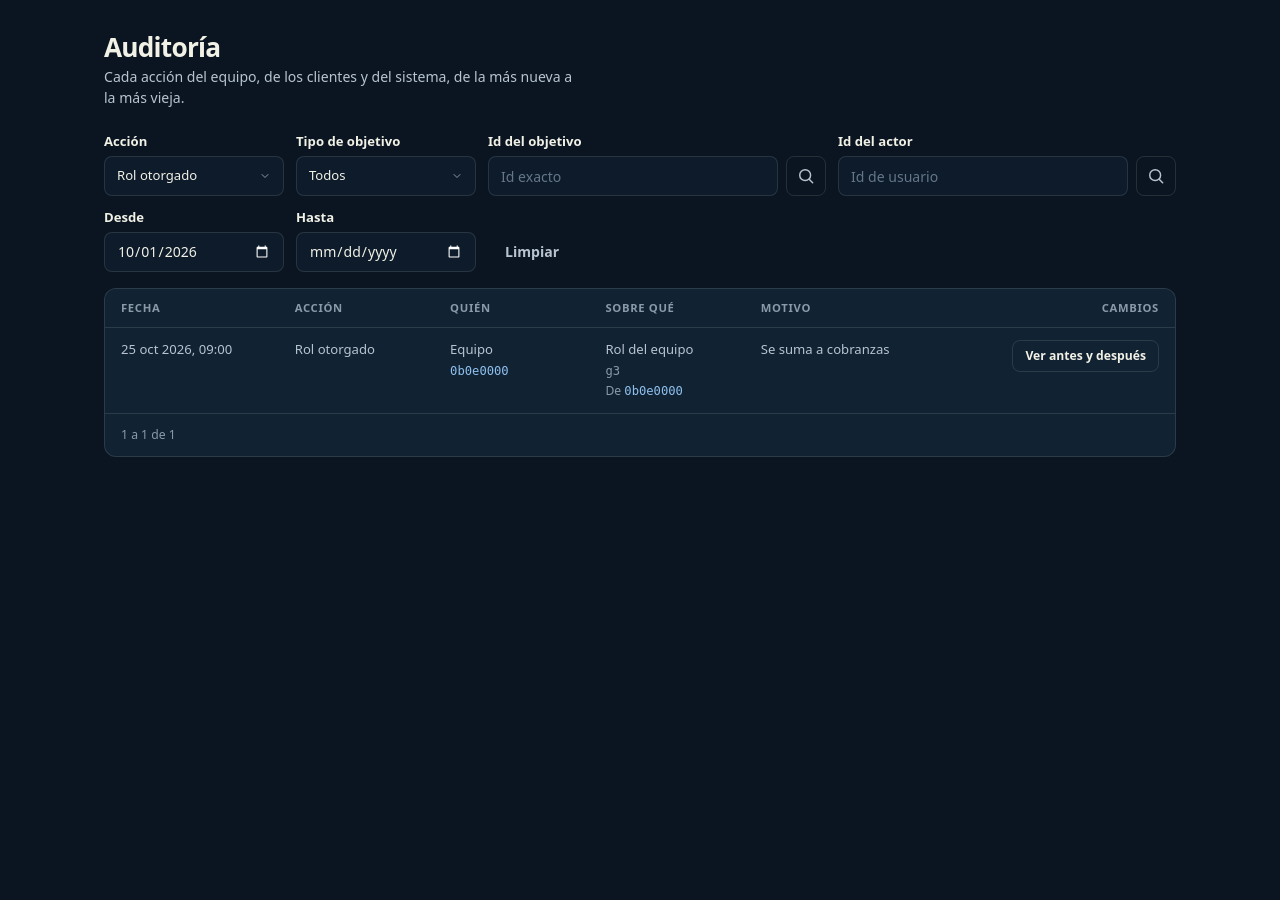
Test case: AuditScreen › sends the filters and shows before and after as text
Click the button "Ver antes y después" at coordinates (1086, 356), box [1012,340,1159,372]
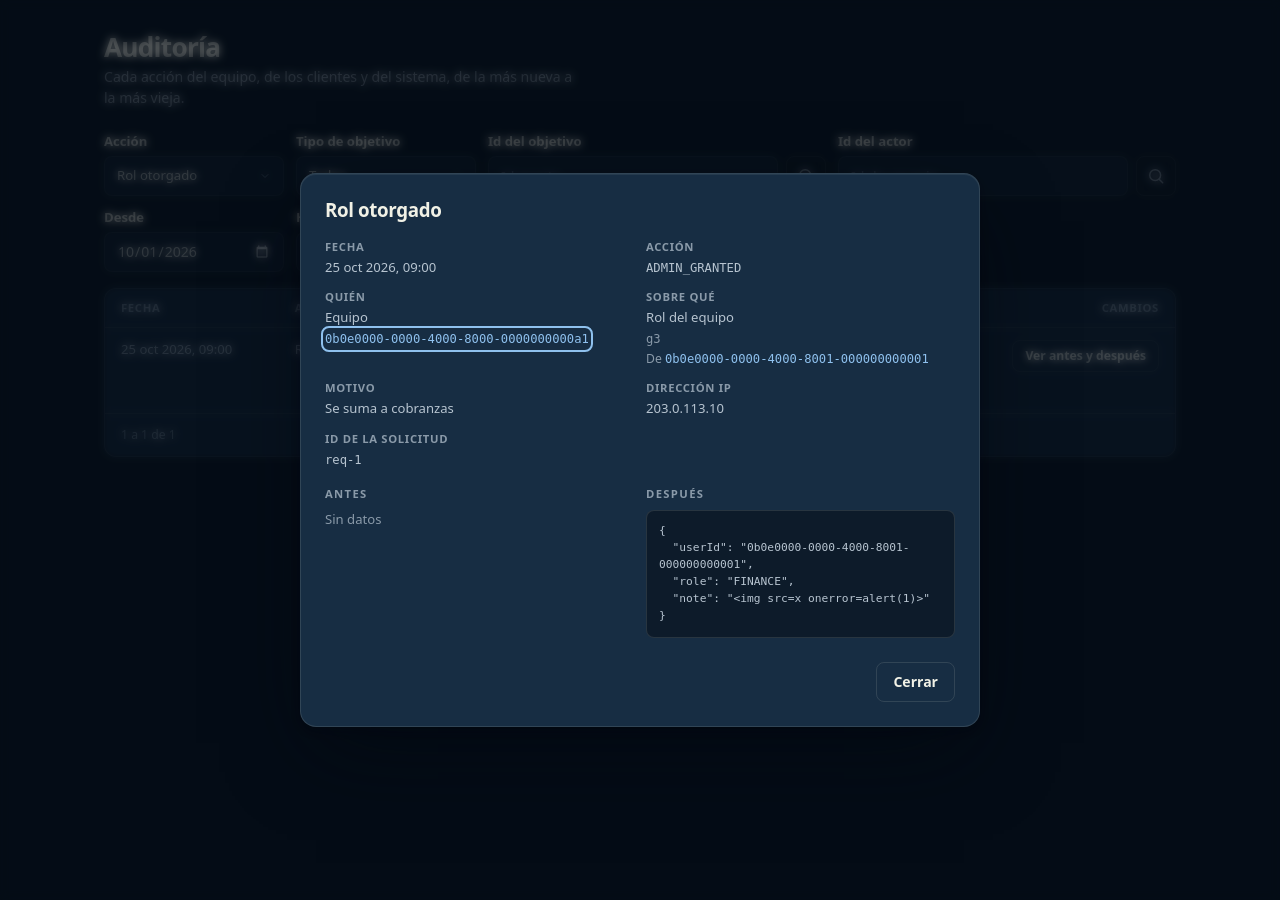
Expected: the text "Sin datos" is shown, [325,510,382,528]
Expected: the text "\"note\": \"<img src=x onerror=alert(1)>\"" is shown, [659,524,930,622]
